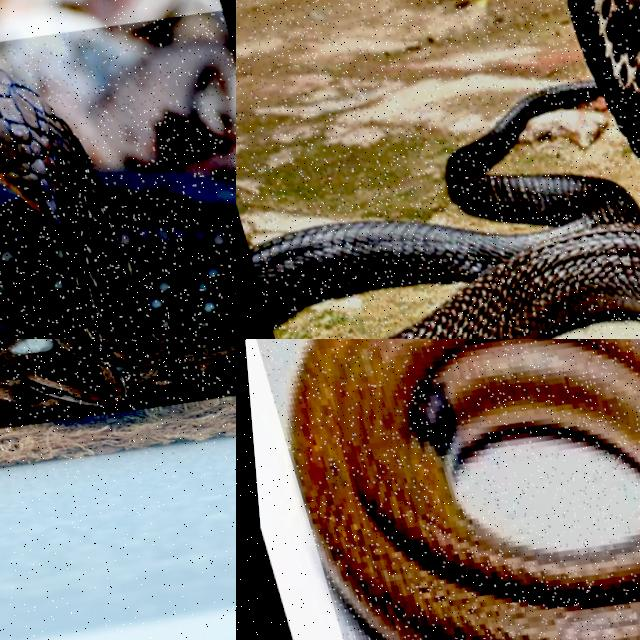Calliophis maculiceps: (292, 339, 639, 639)
Calloselasma rhodostoma: (0, 339, 235, 420)
Ophiophagus hannah: (251, 0, 639, 338), (0, 71, 235, 338)
snake: (251, 0, 639, 338), (292, 339, 639, 639), (0, 71, 235, 338), (0, 339, 235, 420)
